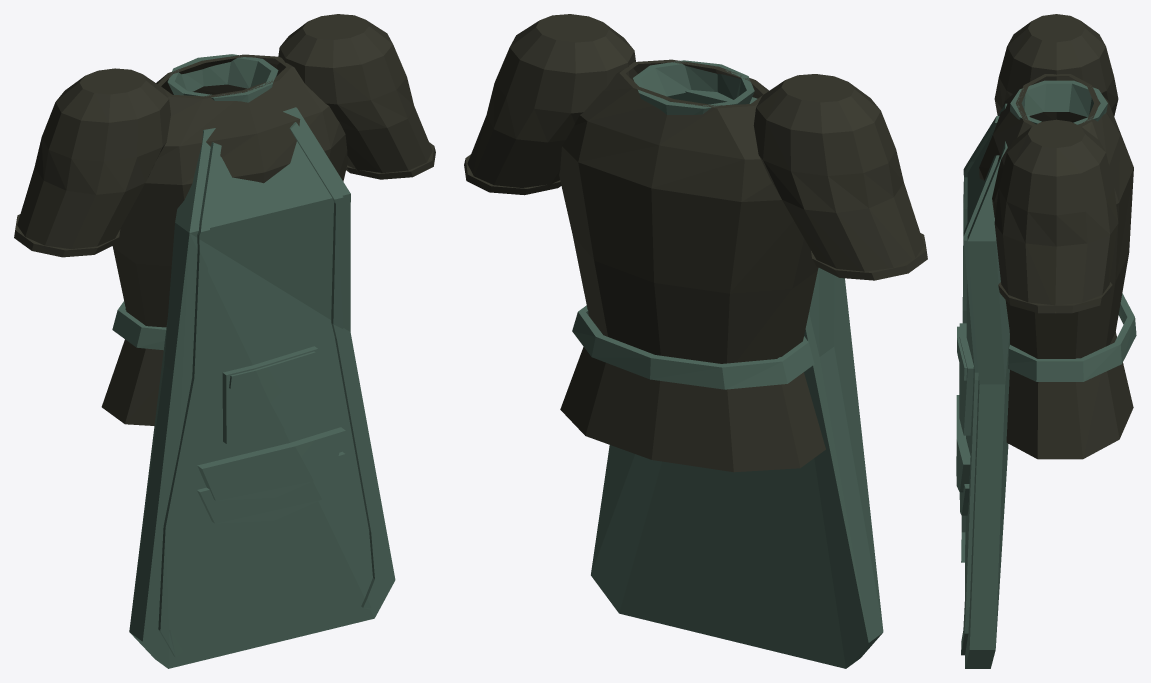
File: leather_apron-female-scaledHide.glb
3 renders of one model, left to right at view 1: azimuth 30°, elevation 25°; view 2: azimuth 150°, elevation 25°; view 3: azimuth 270°, elevation 25°, orthographic. The views are drawn at different scales.
Parts seen in each view (by area): view 1: Leather apron bib and skirt, Apron cloth undershirt, workshirt upper sleeve -1, workshirt upper sleeve 1, Apron stitched border -1, Lapped hide reinforcement Leather apron bib and skirt 0, Apron working pocket, Apron stitched border 1, Apron continuous neck loop, Lapped hide reinforcement Leather apron bib and skirt 1, Apron waist tie, Pocket turned lip (+2 smaller); view 2: Apron cloth undershirt, Leather apron bib and skirt, workshirt upper sleeve -1, workshirt upper sleeve 1, Apron waist tie, Apron continuous neck loop, Sleeve cuff binding -1, Sleeve cuff binding 1; view 3: Apron cloth undershirt, workshirt upper sleeve 1, Leather apron bib and skirt, workshirt upper sleeve -1, Apron waist tie, Apron continuous neck loop, Apron stitched border 1, Apron working pocket, Apron stitched border -1, Sleeve cuff binding 1, Lapped hide reinforcement Leather apron bib and skirt 0.
Boxes of the visible parts, x1=… form: Leather apron bib and skirt: x1=129, y1=107, x2=395, y2=668; Apron cloth undershirt: x1=101, y1=54, x2=347, y2=425; workshirt upper sleeve -1: x1=17, y1=68, x2=170, y2=249; workshirt upper sleeve 1: x1=276, y1=14, x2=432, y2=174; Apron stitched border -1: x1=158, y1=142, x2=221, y2=657; Lapped hide reinforcement Leather apron bib and skirt 0: x1=197, y1=427, x2=345, y2=500; Apron working pocket: x1=222, y1=346, x2=319, y2=443; Apron stitched border 1: x1=289, y1=122, x2=383, y2=609; Apron continuous neck loop: x1=167, y1=54, x2=278, y2=102; Lapped hide reinforcement Leather apron bib and skirt 1: x1=197, y1=451, x2=345, y2=523; Apron waist tie: x1=112, y1=301, x2=166, y2=350; Pocket turned lip: x1=229, y1=351, x2=316, y2=388; Apron cloth undershirt: x1=559, y1=59, x2=825, y2=472; Leather apron bib and skirt: x1=591, y1=90, x2=883, y2=668; workshirt upper sleeve -1: x1=753, y1=74, x2=924, y2=271; workshirt upper sleeve 1: x1=467, y1=14, x2=637, y2=189; Apron waist tie: x1=572, y1=305, x2=814, y2=389; Apron continuous neck loop: x1=633, y1=60, x2=754, y2=114; Sleeve cuff binding -1: x1=811, y1=233, x2=927, y2=280; Sleeve cuff binding 1: x1=464, y1=154, x2=561, y2=195; Apron cloth undershirt: x1=979, y1=74, x2=1133, y2=459; workshirt upper sleeve 1: x1=994, y1=119, x2=1118, y2=313; Leather apron bib and skirt: x1=965, y1=103, x2=1029, y2=668; workshirt upper sleeve -1: x1=994, y1=14, x2=1118, y2=122; Apron waist tie: x1=1008, y1=293, x2=1136, y2=381; Apron continuous neck loop: x1=1010, y1=80, x2=1107, y2=124; Apron stitched border 1: x1=961, y1=155, x2=999, y2=655; Apron working pocket: x1=959, y1=323, x2=973, y2=435; Apron stitched border -1: x1=961, y1=116, x2=999, y2=562; Sleeve cuff binding 1: x1=998, y1=282, x2=1112, y2=313; Lapped hide reinforcement Leather apron bib and skirt 0: x1=956, y1=395, x2=970, y2=492.
Bounding box in the file's own units: 3.03 × 3.97 × 1.2.
